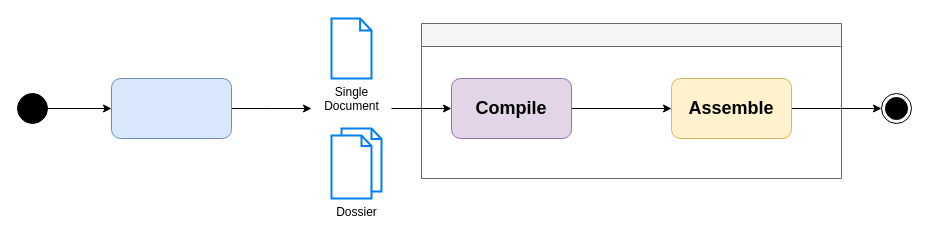
The diagram is 929 pixels wide and 236 high, and some of its shapes have lost their labels. The shapes that lost their labels are listed below. From the top down, each one's centre as x and y in pixels, then its label:
(x=171, y=108): Load
(x=631, y=100): Build
